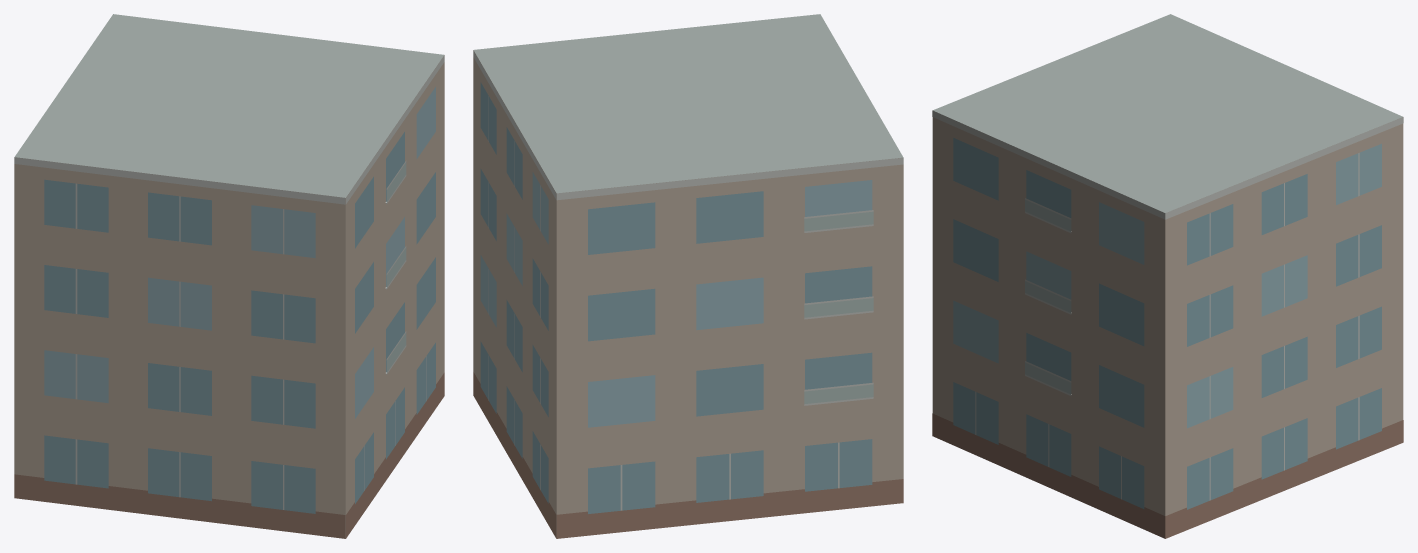
Rendered from residential-fa489373-6aea-498f-b82e-3d189dc9feb0.glb.
The picture shows the model from 3 angles, left to right: view 1: azimuth 30°, elevation 25°; view 2: azimuth 150°, elevation 25°; view 3: azimuth 270°, elevation 25°; orthographic projection. The views are drawn at different scales.
Parts seen in each view (by area): view 1: residential-fa489373-6aea-498f-b82e-3d189dc9feb0.tmp; view 2: residential-fa489373-6aea-498f-b82e-3d189dc9feb0.tmp; view 3: residential-fa489373-6aea-498f-b82e-3d189dc9feb0.tmp.
Boxes of the visible parts, x1=… form: residential-fa489373-6aea-498f-b82e-3d189dc9feb0.tmp: x1=14, y1=14, x2=444, y2=538; residential-fa489373-6aea-498f-b82e-3d189dc9feb0.tmp: x1=473, y1=14, x2=903, y2=538; residential-fa489373-6aea-498f-b82e-3d189dc9feb0.tmp: x1=932, y1=14, x2=1403, y2=538.
Size of the model in its own units: 16.01 by 12.2 by 15.99.
